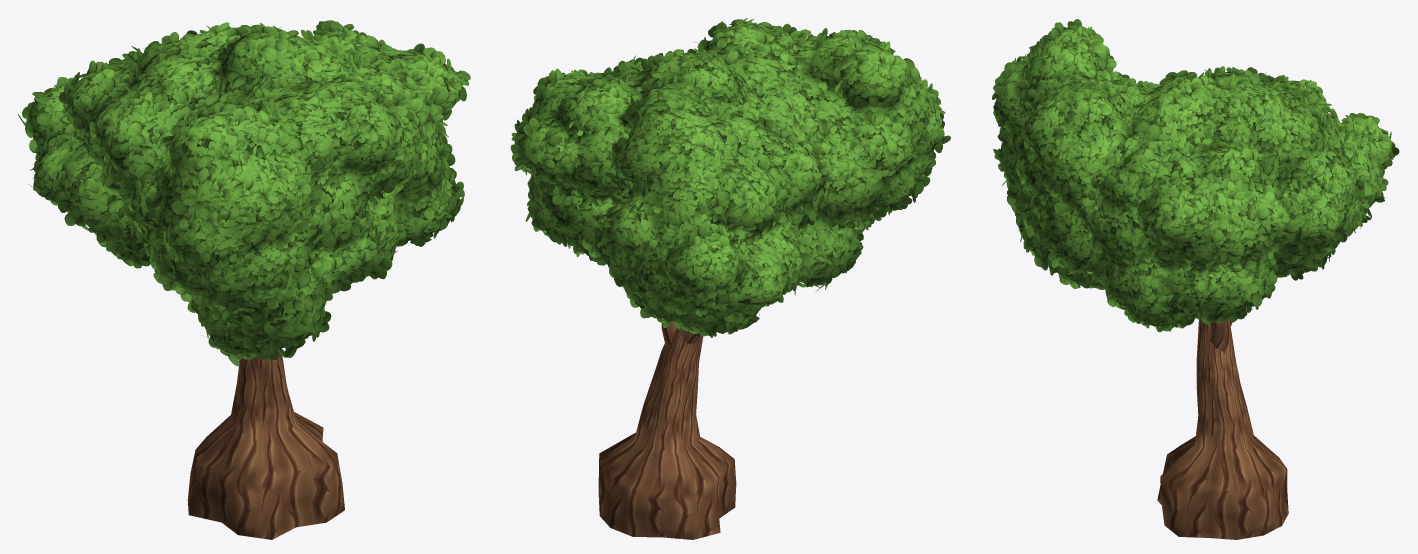
Rendered from maple_v2.glb.
3 views of the same model, side by side, from view 1: azimuth 30°, elevation 25°; view 2: azimuth 150°, elevation 25°; view 3: azimuth 270°, elevation 25° (orthographic). The views are drawn at different scales.
Parts seen in each view (by area): view 1: maple_v2_leaves_LOD0, maple_v2_volume_LOD0, maple_v2_trunk_LOD0; view 2: maple_v2_leaves_LOD0, maple_v2_volume_LOD0, maple_v2_trunk_LOD0; view 3: maple_v2_leaves_LOD0, maple_v2_volume_LOD0, maple_v2_trunk_LOD0.
Boxes of the visible parts, bbox=[...] form: maple_v2_leaves_LOD0: bbox=[18, 20, 470, 366]; maple_v2_volume_LOD0: bbox=[26, 27, 459, 354]; maple_v2_trunk_LOD0: bbox=[187, 352, 344, 539]; maple_v2_leaves_LOD0: bbox=[510, 18, 950, 337]; maple_v2_volume_LOD0: bbox=[518, 21, 940, 330]; maple_v2_trunk_LOD0: bbox=[598, 321, 736, 539]; maple_v2_leaves_LOD0: bbox=[992, 19, 1399, 332]; maple_v2_volume_LOD0: bbox=[996, 29, 1390, 324]; maple_v2_trunk_LOD0: bbox=[1157, 319, 1288, 539].
Size of what is drawn, in the model's own units: 8.2 by 10.12 by 8.76.
Materials: 3 (3 with a texture image).
